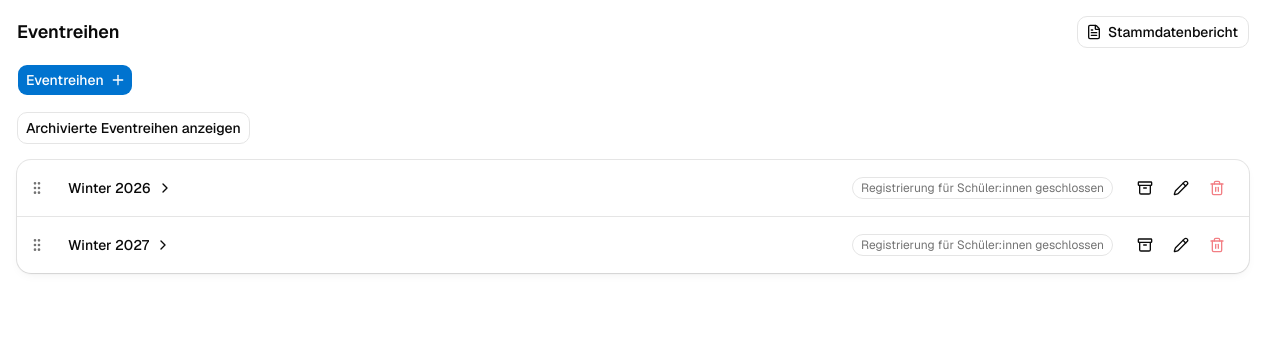
Test: EventSeriesView — archived visibility › reveals archived event series on demand, so unarchiving stays reachable
Click the button "Archivierte Eventreihen anzeigen" at point(133, 128), box [24,118,243,138]
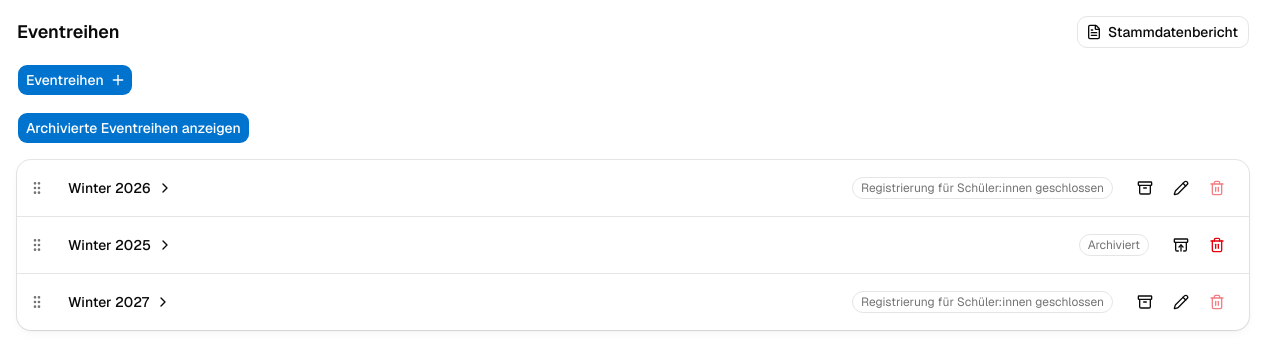
Expected: the text "Winter 2025" is shown, [68,235,151,255]
